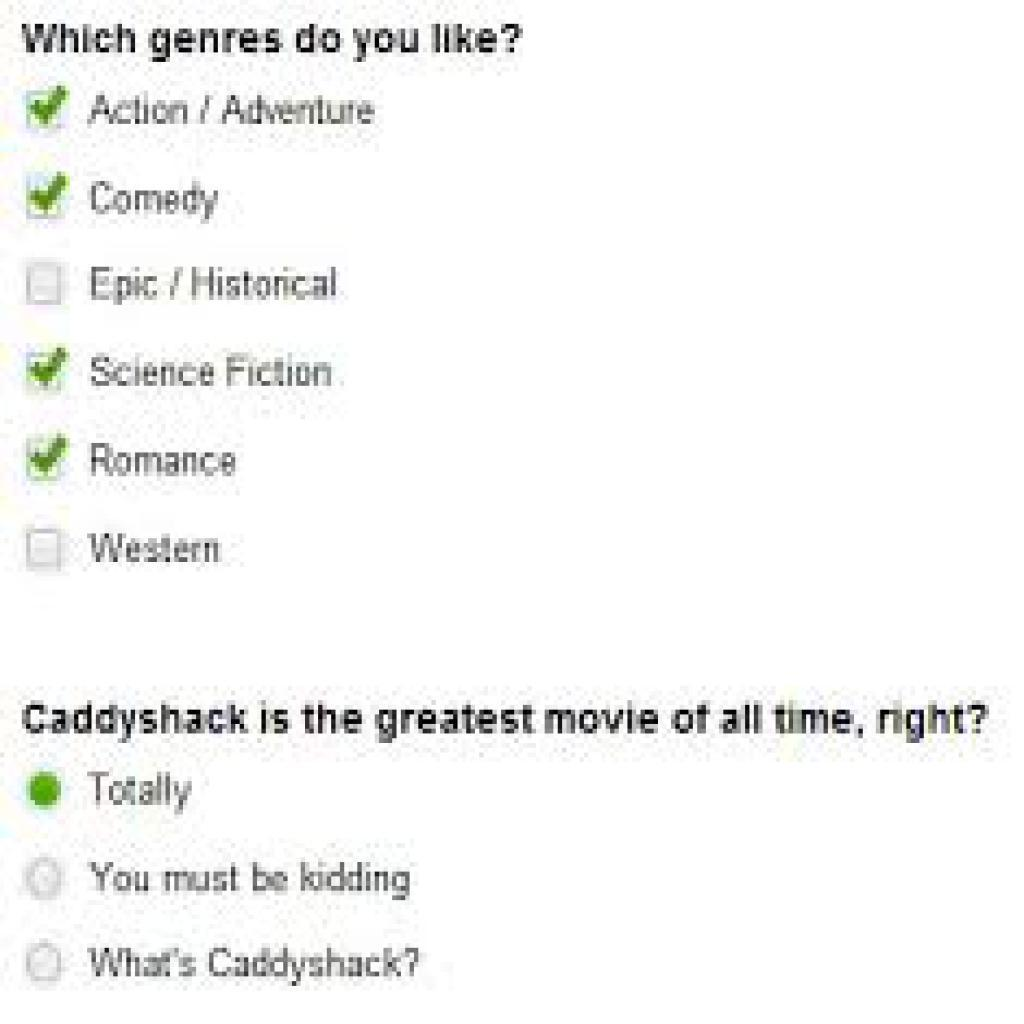checkbox: (23, 78, 71, 140), (24, 172, 72, 222), (23, 349, 66, 400), (25, 434, 66, 485), (27, 529, 65, 571), (26, 266, 61, 304)
label: (81, 941, 424, 987), (88, 858, 420, 904), (88, 347, 343, 397), (87, 258, 344, 307), (85, 94, 386, 134), (90, 174, 226, 229), (87, 440, 241, 485), (85, 530, 231, 572), (82, 767, 207, 816)
radio: (24, 853, 67, 906), (25, 940, 67, 989), (27, 769, 67, 818)
